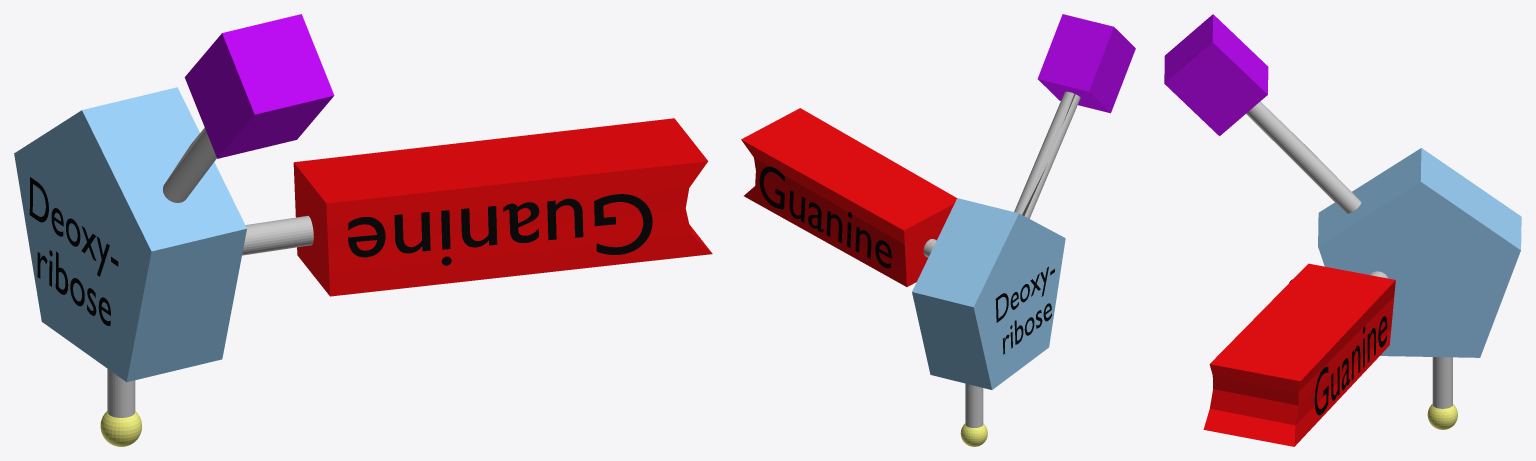
Rendered from guanine.glb.
The picture shows the model from 3 angles, left to right: view 1: azimuth 30°, elevation 25°; view 2: azimuth 150°, elevation 25°; view 3: azimuth 270°, elevation 25°; orthographic projection. The views are drawn at different scales.
Visible parts, largest first — view 1: Connector_Ribose_Base.002, Deoxyribose.005, Phosphate.002, GuanineText.001, Text.008, Guanine; view 2: Deoxyribose.005, Connector_Ribose_Base.002, Phosphate.002, GuanineText, Guanine, Text.008; view 3: Deoxyribose.005, Connector_Ribose_Base.002, Phosphate.002, Guanine, GuanineText.
Boxes of the visible parts, x1,y1,x2,y2 form: Connector_Ribose_Base.002: [242, 118, 712, 296]; Deoxyribose.005: [14, 87, 246, 381]; Phosphate.002: [163, 14, 334, 202]; GuanineText.001: [348, 194, 652, 265]; Text.008: [29, 177, 118, 325]; Guanine: [100, 369, 141, 446]; Deoxyribose.005: [912, 198, 1065, 389]; Connector_Ribose_Base.002: [741, 108, 956, 286]; Phosphate.002: [1014, 14, 1135, 218]; GuanineText: [759, 166, 891, 268]; Guanine: [960, 383, 987, 446]; Text.008: [995, 266, 1054, 354]; Deoxyribose.005: [1318, 148, 1521, 357]; Connector_Ribose_Base.002: [1203, 263, 1395, 446]; Phosphate.002: [1164, 14, 1361, 213]; Guanine: [1427, 357, 1457, 429]; GuanineText: [1314, 316, 1387, 415].
Size of the model in its own units: 1.64 by 1.63 by 1.34.
